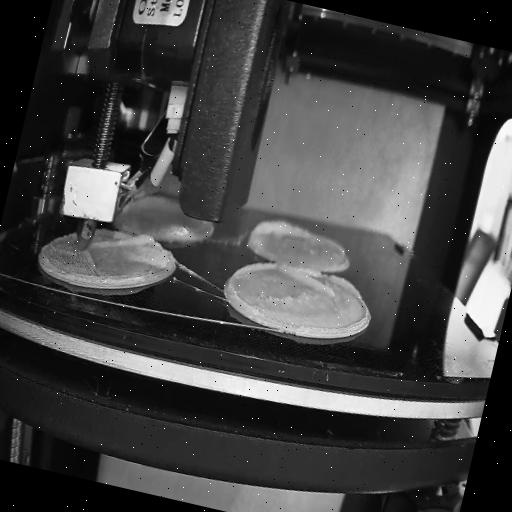over_extrusion: (274, 260, 366, 306), (222, 250, 278, 317), (93, 220, 159, 262), (251, 214, 310, 250)
